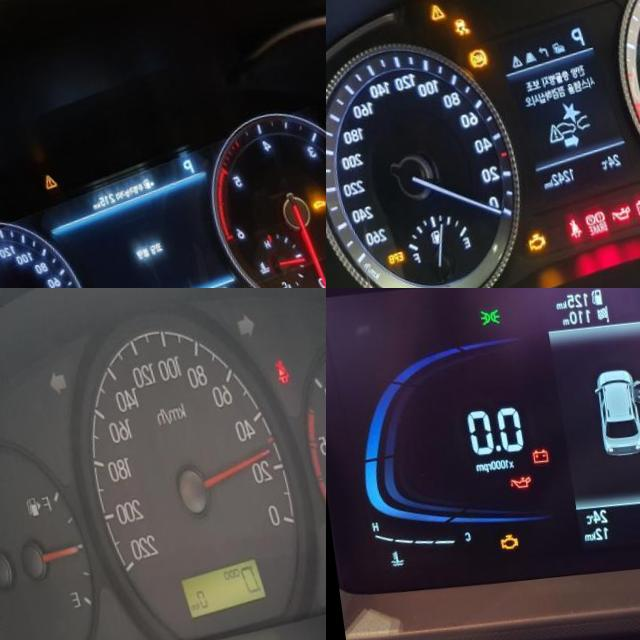Central Warning lamp: (422, 4, 439, 24), (36, 178, 51, 195)
SideLamp: (474, 311, 495, 331)
